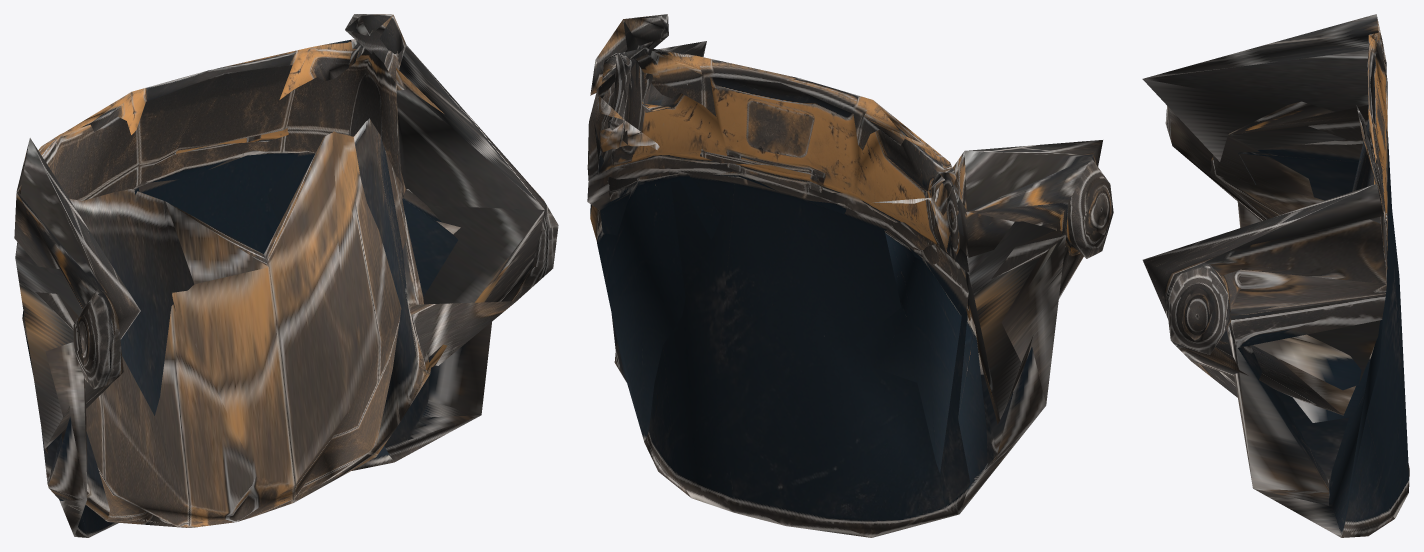
File: gear-shchitok.glb
3 renders of one model, left to right at view 1: azimuth 30°, elevation 25°; view 2: azimuth 150°, elevation 25°; view 3: azimuth 270°, elevation 25°, orthographic. The views are drawn at different scales.
Parts seen in each view (by area): view 1: gear-shchitok; view 2: gear-shchitok; view 3: gear-shchitok.
Boxes of the visible parts, x1,y1,x2,y2 form: gear-shchitok: [14, 14, 558, 537]; gear-shchitok: [587, 14, 1113, 537]; gear-shchitok: [1142, 14, 1409, 537].
Bounding box in the file's own units: 0.34 × 0.3269 × 0.1824.
Materials: 1 (1 with a texture image).
